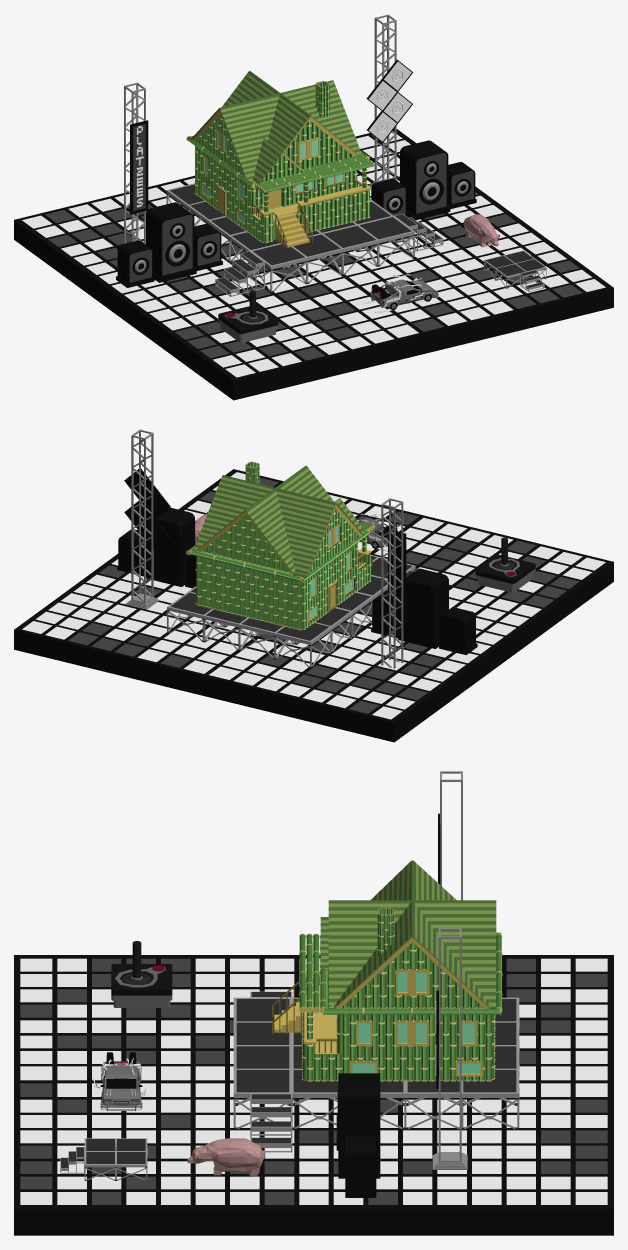
The picture shows the model from 3 angles, top to bottom: view 1: azimuth 30°, elevation 25°; view 2: azimuth 150°, elevation 25°; view 3: azimuth 270°, elevation 25°; orthographic projection. The views are drawn at different scales.
Parts seen in each view (by area): view 1: Cube.008, Cube.1327, OBJRANDOM_JOYSTICK, VEHICLES_DELOREAN, ANIMAL_HIPOPOTAMO; view 2: Cube.008, Cube.1327, OBJRANDOM_JOYSTICK, VEHICLES_DELOREAN; view 3: Cube.008, Cube.1327, OBJRANDOM_JOYSTICK, VEHICLES_DELOREAN, ANIMAL_HIPOPOTAMO.
Part boxes in pixels (bbox=[...]): Cube.008: bbox=[14, 14, 613, 400]; Cube.1327: bbox=[186, 71, 374, 248]; OBJRANDOM_JOYSTICK: bbox=[218, 290, 278, 342]; VEHICLES_DELOREAN: bbox=[358, 274, 438, 313]; ANIMAL_HIPOPOTAMO: bbox=[463, 214, 499, 247]; Cube.008: bbox=[14, 429, 613, 742]; Cube.1327: bbox=[186, 461, 374, 630]; OBJRANDOM_JOYSTICK: bbox=[475, 537, 535, 592]; VEHICLES_DELOREAN: bbox=[357, 513, 408, 551]; Cube.008: bbox=[14, 771, 613, 1235]; Cube.1327: bbox=[272, 860, 502, 1081]; OBJRANDOM_JOYSTICK: bbox=[111, 941, 172, 1007]; VEHICLES_DELOREAN: bbox=[92, 1052, 146, 1110]; ANIMAL_HIPOPOTAMO: bbox=[187, 1138, 265, 1176].
Bounding box in the file's own units: 4000 × 1950 × 4000.
Materials: 43 (2 with a texture image).
